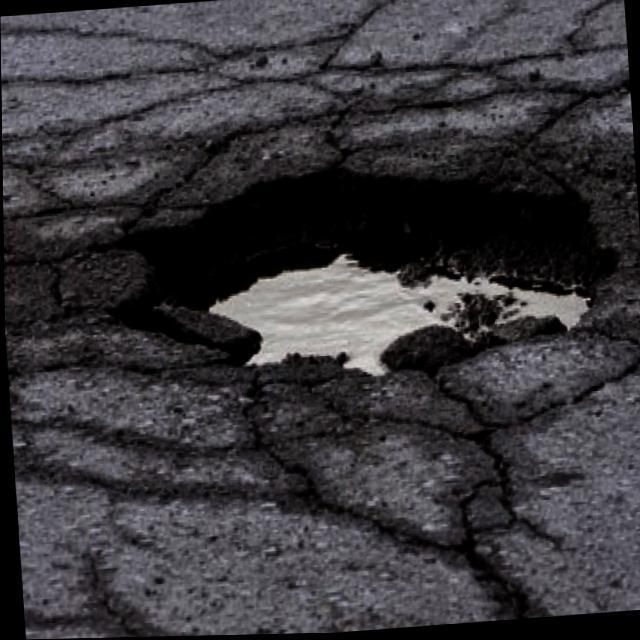Pothole: (113, 170, 605, 371)
